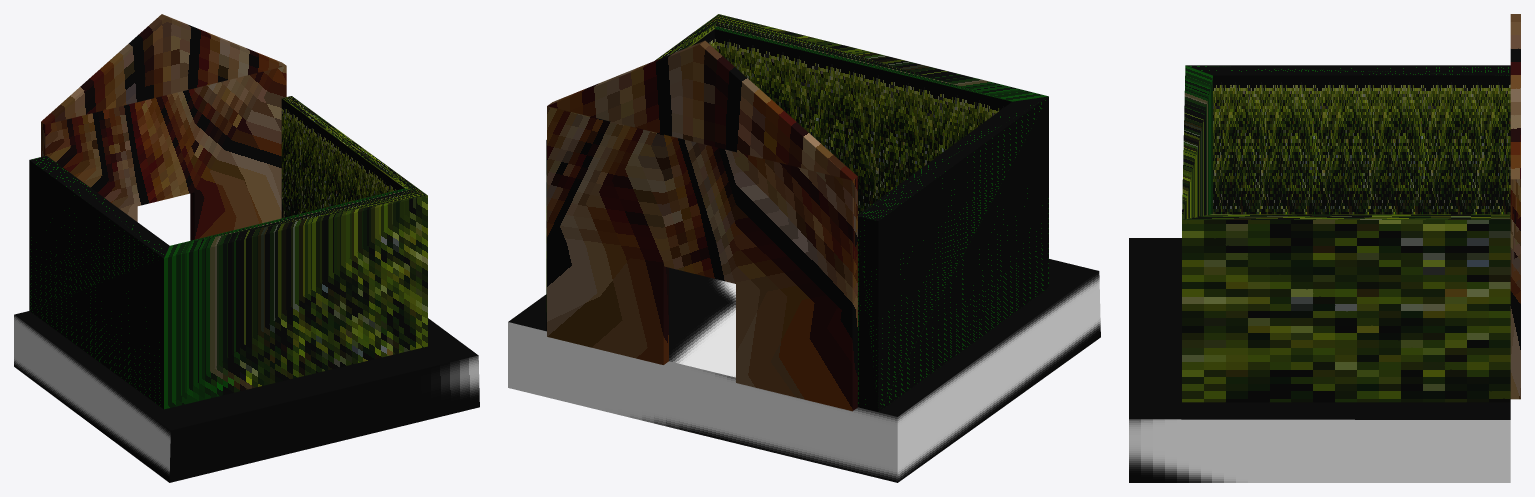
Rendered from Start141.glb.
The picture shows the model from 3 angles, left to right: view 1: azimuth 30°, elevation 25°; view 2: azimuth 150°, elevation 25°; view 3: azimuth 270°, elevation 25°; orthographic projection. The views are drawn at different scales.
Visible parts, largest first — view 1: TreeWall, HallWalls, Ground; view 2: HallWalls, TreeWall, Ground; view 3: TreeWall, Ground, HallWalls.
Boxes of the visible parts, x1,y1,x2,y2 form: TreeWall: (29, 96, 427, 409); HallWalls: (41, 14, 286, 240); Ground: (14, 311, 479, 482); HallWalls: (547, 40, 857, 411); TreeWall: (546, 14, 1048, 412); Ground: (508, 259, 1100, 482); TreeWall: (1182, 65, 1510, 402); Ground: (1129, 238, 1510, 482); HallWalls: (1510, 14, 1520, 399).
Size of the model in its own units: 12.48 by 12 by 11.3.
3 materials, 3 textured.
